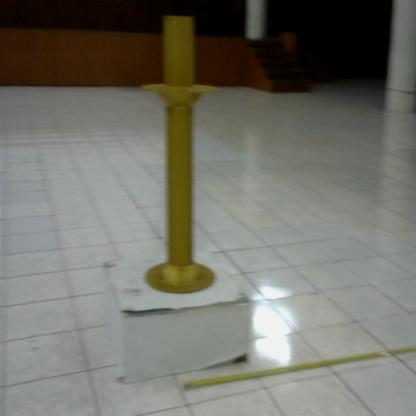pole: (132, 11, 222, 303)
